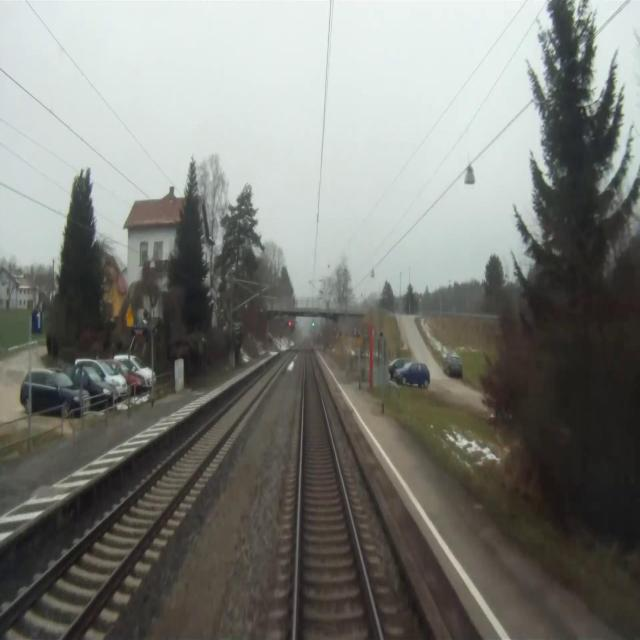rail-track: (0, 361, 281, 639), (297, 341, 379, 639)
